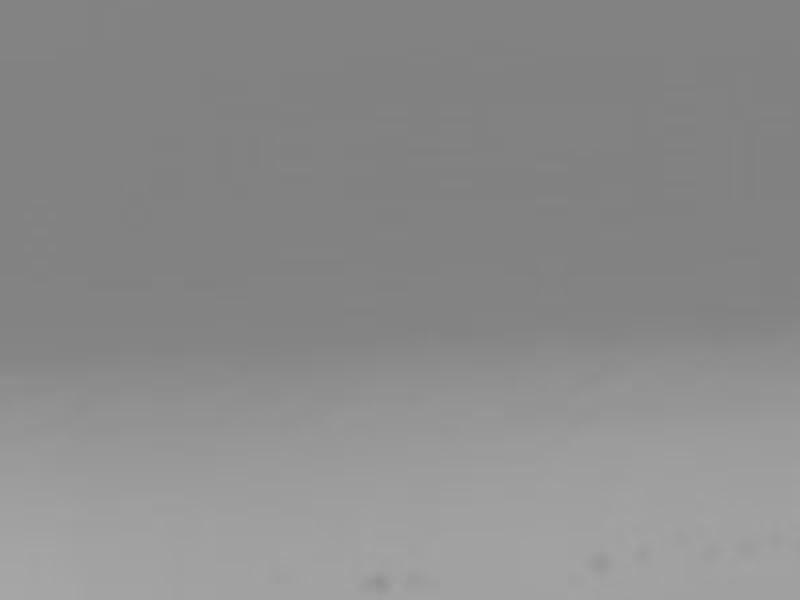defect: (365, 571, 394, 594), (592, 554, 610, 578)
